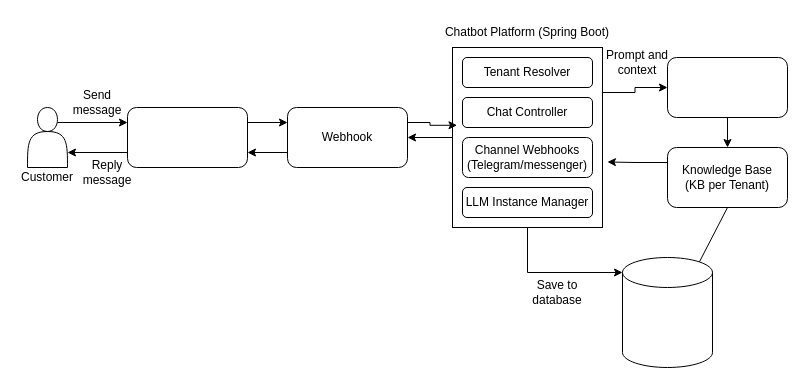
This 805x385 diagram has some shape labels left out. Each missing label, with the centre of its shape:
LLM Service (FastAPI + Model): point 727,87
Messenger/ Telegram: point 187,137
PostgreSQL (global_admin): point 667,312
